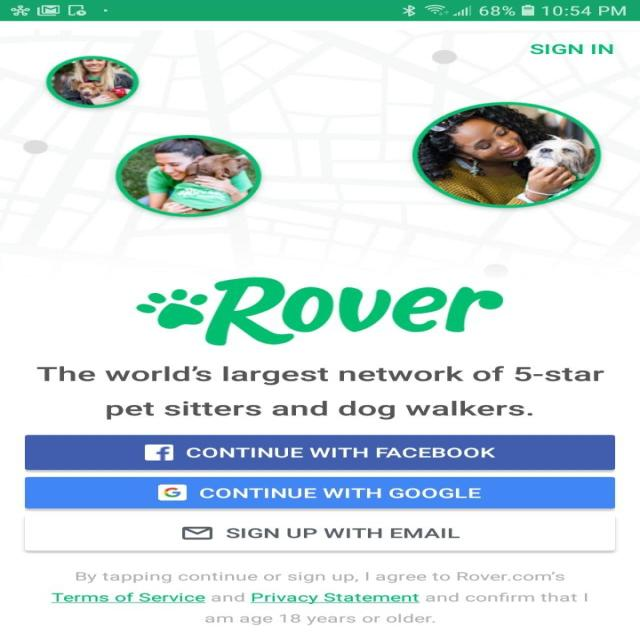Image: (135, 276, 503, 346), (411, 102, 601, 208), (115, 134, 262, 217), (46, 56, 140, 109)
Text: (51, 570, 588, 624), (36, 366, 604, 384), (105, 400, 532, 419), (530, 44, 613, 54)
TextButton: (24, 514, 615, 550), (24, 434, 614, 470), (24, 476, 614, 508)
